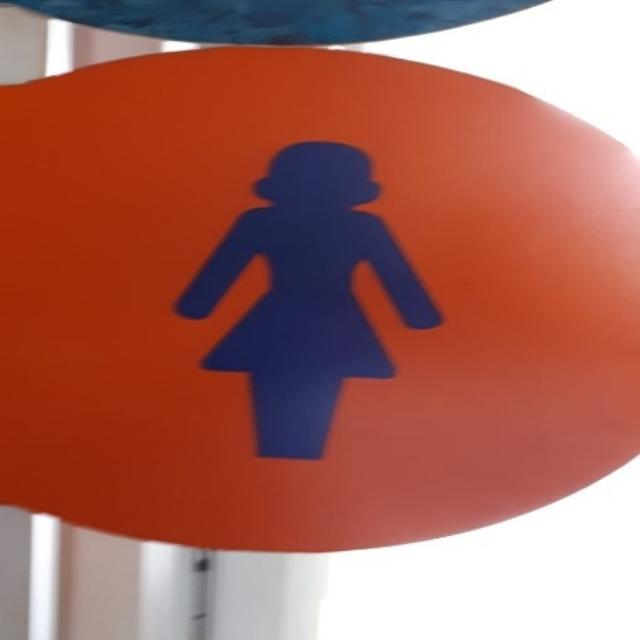wc nu: (1, 48, 637, 550)
